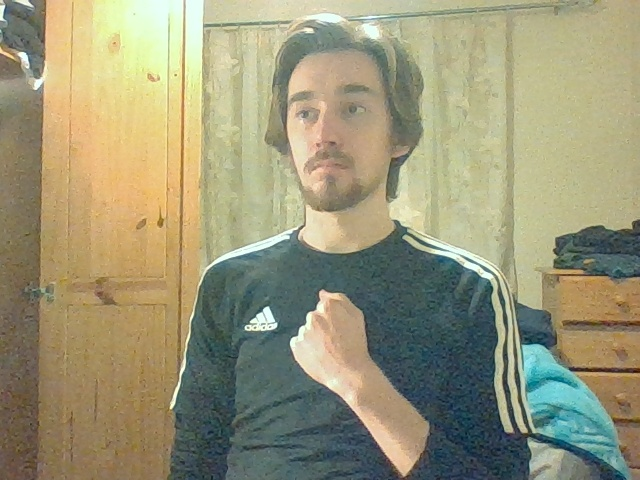my: (289, 288, 367, 380)
